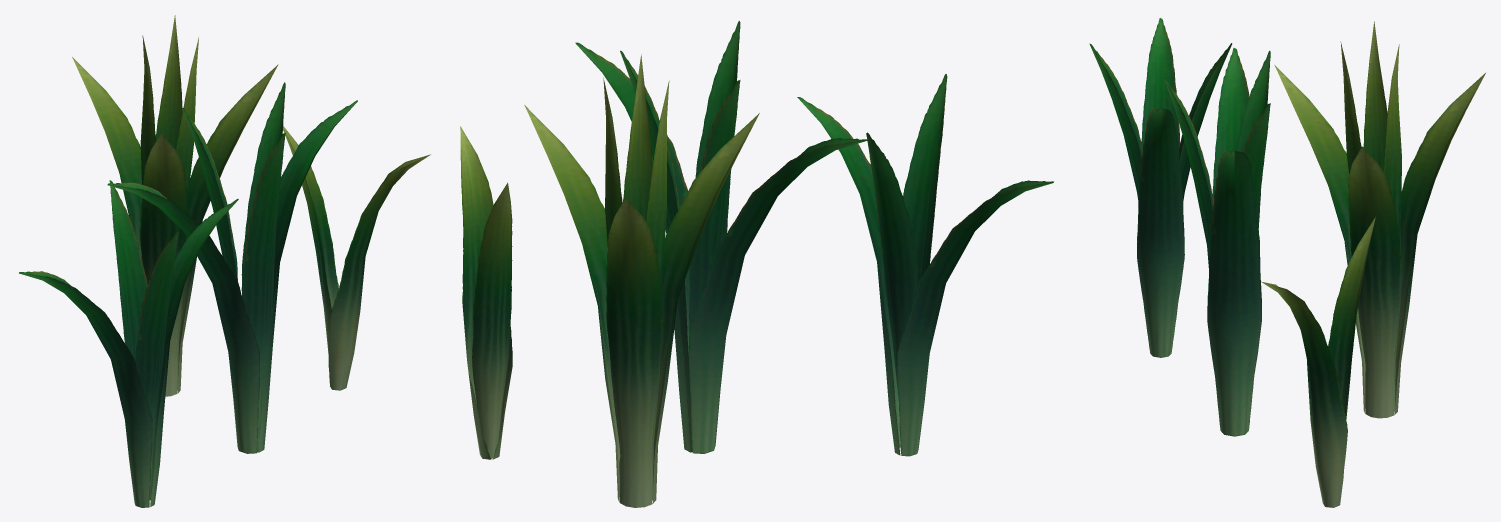
File: broadleaf-tuft.glb
The picture shows the model from 3 angles, left to right: view 1: azimuth 30°, elevation 25°; view 2: azimuth 150°, elevation 25°; view 3: azimuth 270°, elevation 25°; orthographic projection. The views are drawn at different scales.
Parts seen in each view (by area): view 1: GamaLeaf1_10__mLakePlant; view 2: GamaLeaf1_10__mLakePlant; view 3: GamaLeaf1_10__mLakePlant.
Boxes of the visible parts, box(x1,y1,x2,y2) form: GamaLeaf1_10__mLakePlant: box(19, 15, 430, 507); GamaLeaf1_10__mLakePlant: box(460, 21, 1053, 507); GamaLeaf1_10__mLakePlant: box(1089, 18, 1485, 507).
Bounding box in the file's own units: 1 × 0.7826 × 0.716.
Materials: 1 (1 with a texture image).
